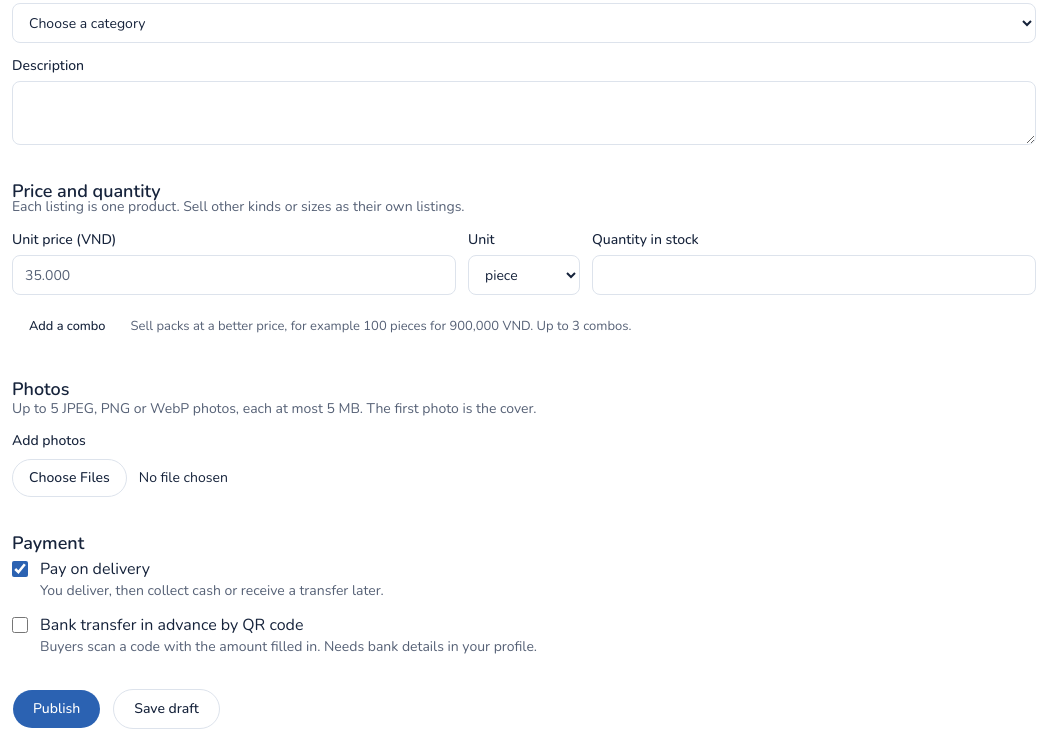
ListingForm › saving › labels the form and explains errors in English
The image size is (1048, 729).
(page scrolled)
Click the button "Publish".
click(57, 709)  # box top-left (12, 689), bottom-right (101, 728)
(page scrolled)
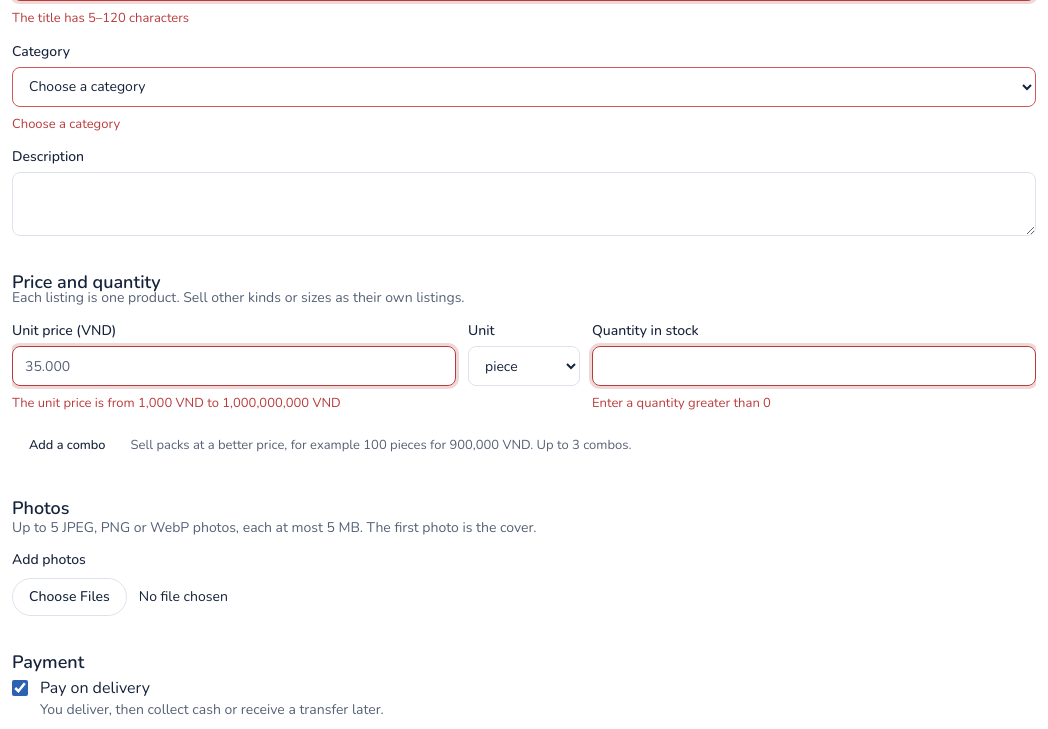
Expected: the field labelled "Unit price (VND)" is shown, top-left (12, 346), bottom-right (456, 386)
Now the text "The title has 5–120 characters" is shown, box top-left (12, 9), bottom-right (189, 27)
